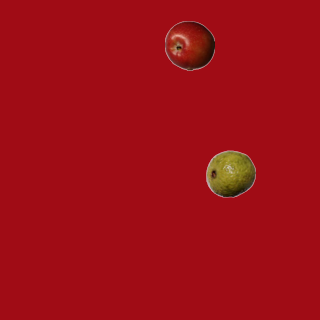Apple Braeburn: (164, 20, 214, 70)
Guava: (205, 148, 255, 198)
